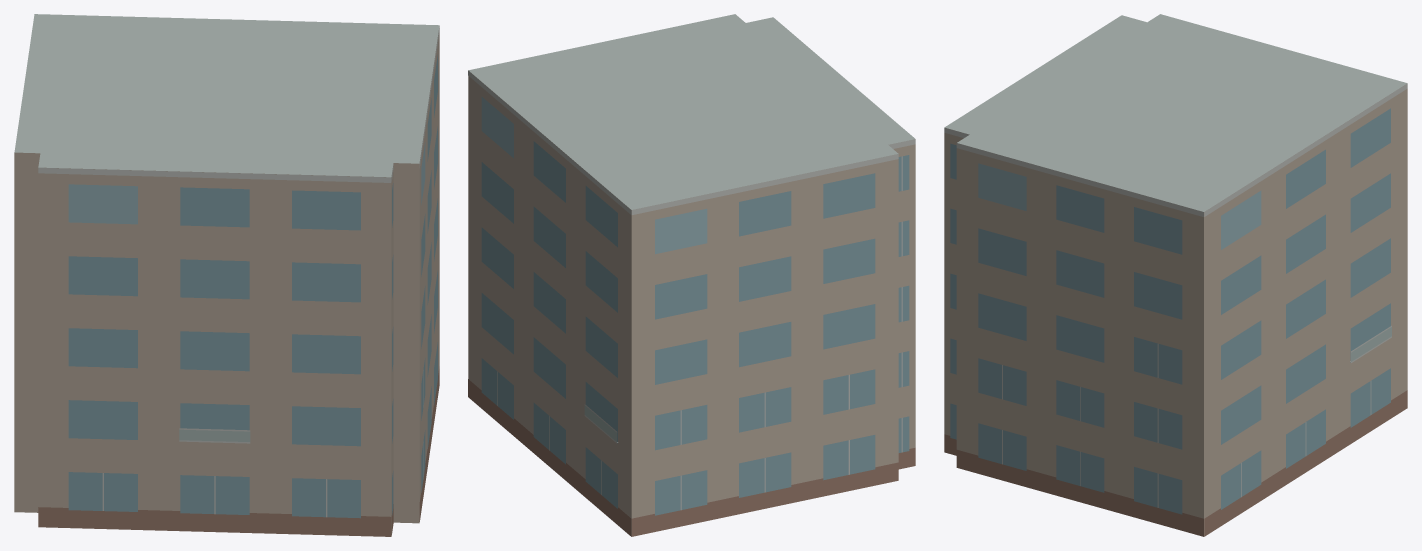
The model's file is survey-upis-33004264.glb.
The picture shows the model from 3 angles, left to right: view 1: azimuth 30°, elevation 25°; view 2: azimuth 150°, elevation 25°; view 3: azimuth 270°, elevation 25°; orthographic projection. The views are drawn at different scales.
Visible parts, largest first — view 1: survey-upis-33004264.tmp; view 2: survey-upis-33004264.tmp; view 3: survey-upis-33004264.tmp.
Part boxes in pixels (x1,y1,x2,y2): survey-upis-33004264.tmp: (14,14,439,536); survey-upis-33004264.tmp: (468,14,915,536); survey-upis-33004264.tmp: (944,14,1407,536).
Size of the model in its own units: 19.95 by 15.25 by 19.73.
